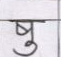u_matra: (13, 41, 39, 56)
